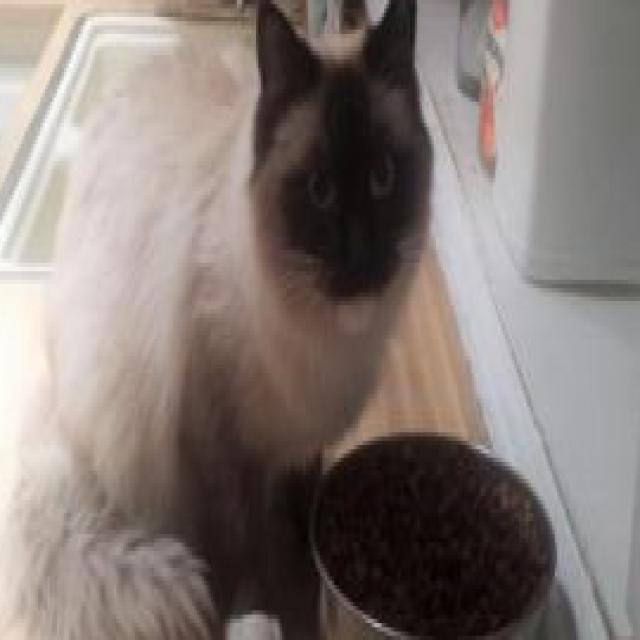Birman: (5, 0, 434, 640)
